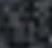one: (23, 19, 26, 27), (27, 20, 30, 28)
two: (18, 19, 21, 27)
